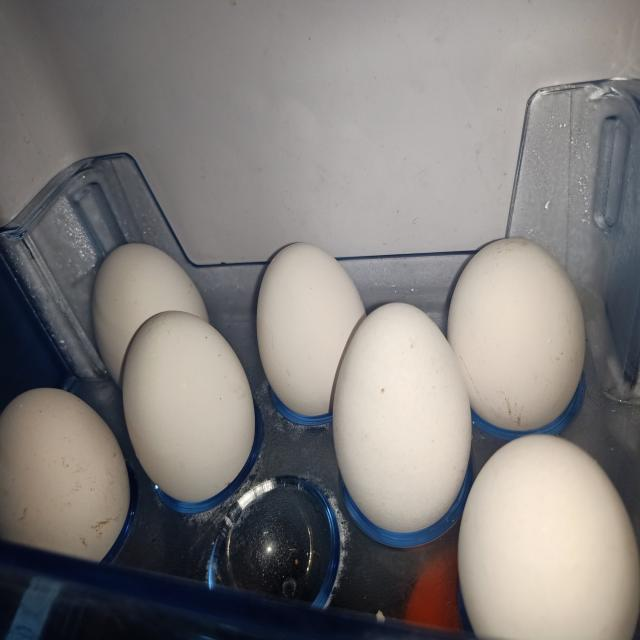Egg: (459, 435, 640, 640), (333, 303, 472, 533), (448, 237, 586, 431), (122, 311, 255, 503), (0, 388, 129, 562), (257, 242, 365, 425), (92, 243, 208, 387)
